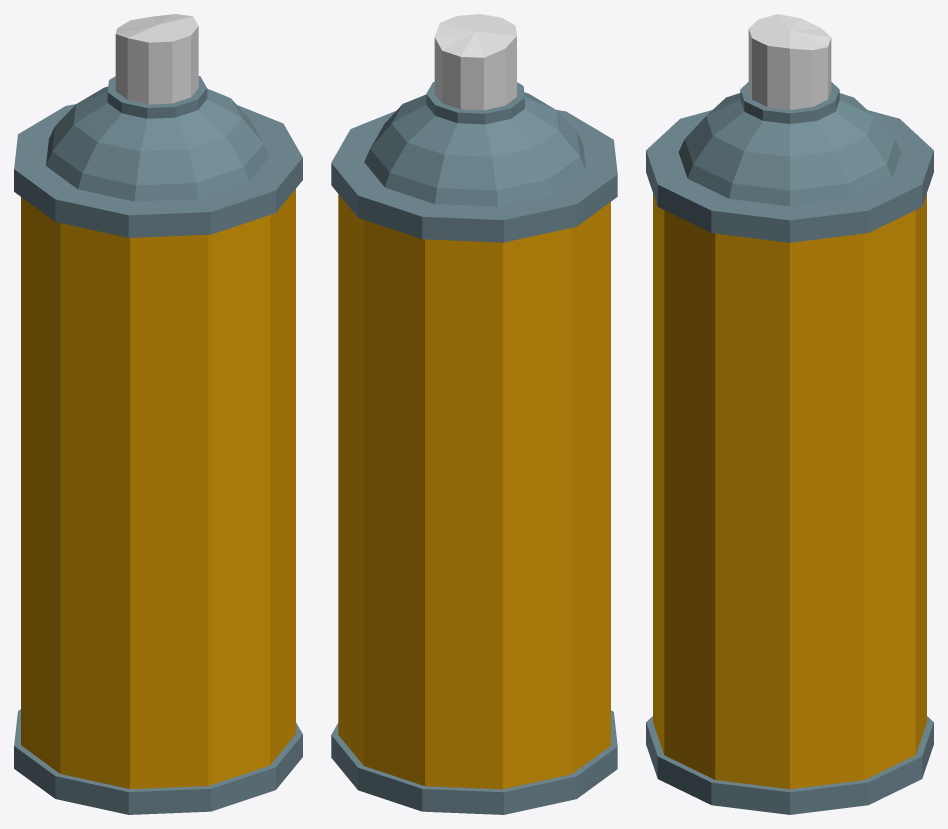
The model's file is paint_can.fbx.
3 renders of one model, left to right at view 1: azimuth 30°, elevation 25°; view 2: azimuth 150°, elevation 25°; view 3: azimuth 270°, elevation 25°, orthographic.
Visible parts, largest first — view 1: pCylinder13; view 2: pCylinder13; view 3: pCylinder13.
Part boxes in pixels (x1,y1,x2,y2): pCylinder13: (14,14,302,814); pCylinder13: (331,14,617,814); pCylinder13: (646,14,933,814).
Size of the model in its own units: 0.2195 by 0.6147 by 0.2218.
